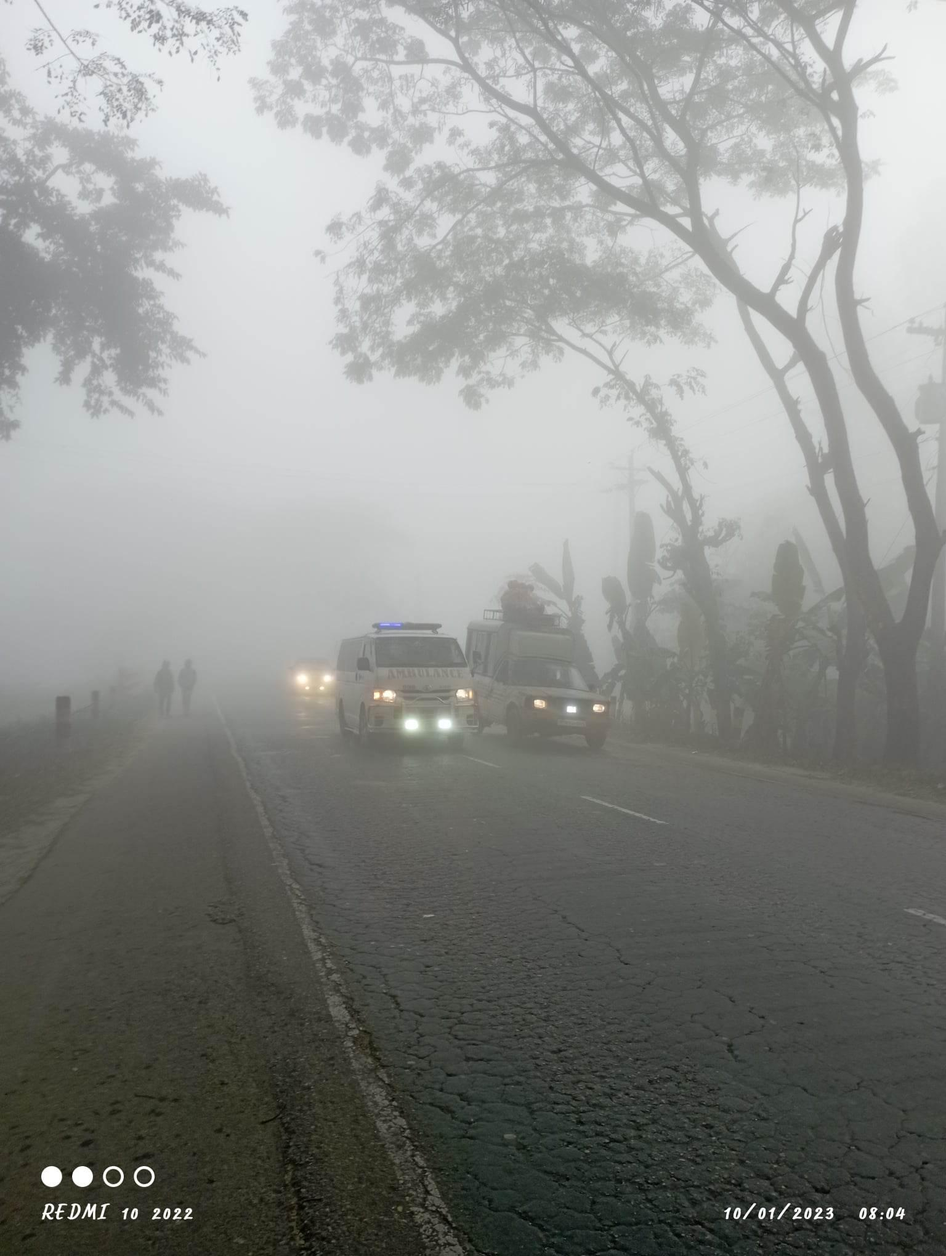Car: (466, 587, 631, 760), (320, 605, 487, 771)
